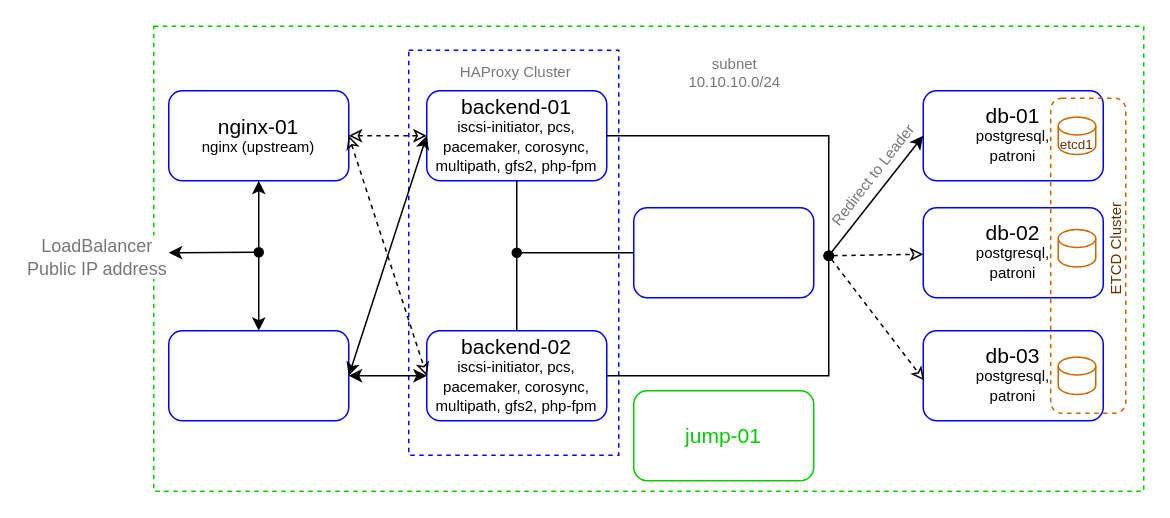
Some shapes in this 1170 by 518 pixel diagram are drawn without their labels. Each missing label, with the centre of its shape:
"etcd2" belongs at (x=1076, y=247).
"etcd3" belongs at (x=1076, y=375).
"iscsi-01 iscsi-target" belongs at (x=723, y=252).
"nginx-02 nginx (upstream)" belongs at (x=258, y=375).
